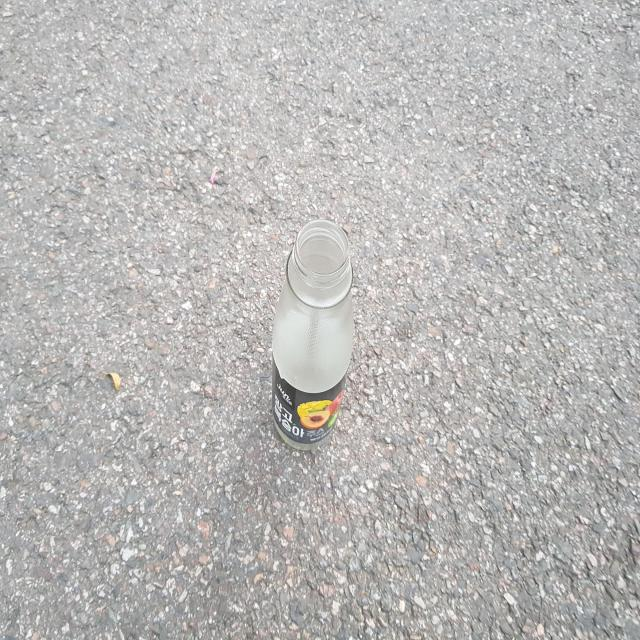glass: (272, 219, 354, 450)
